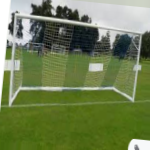goals: (8, 12, 145, 113)
